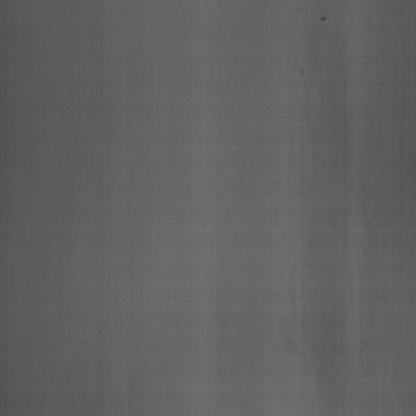inclusion: (294, 52, 308, 86), (317, 0, 331, 30)
